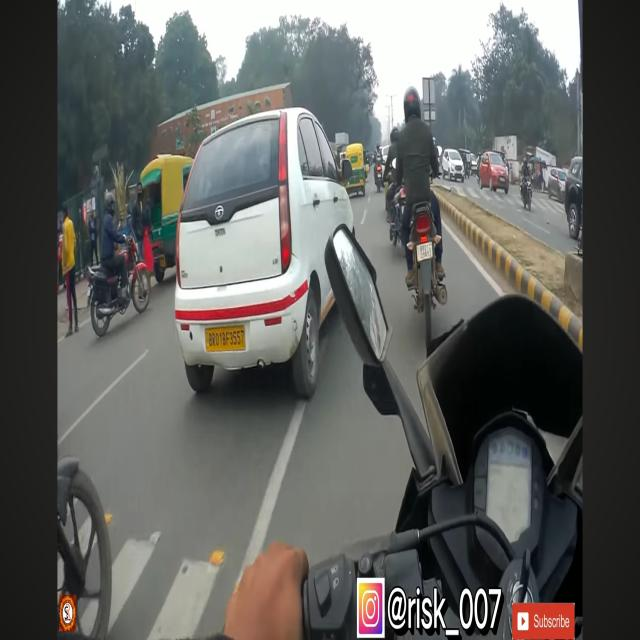Numberplate: (418, 242, 438, 261)
bike: (394, 89, 459, 336)
helmet: (399, 82, 432, 126)
